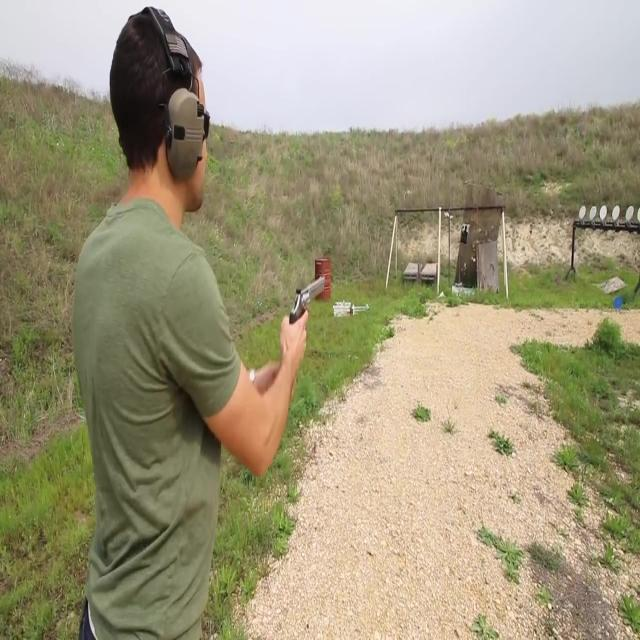Weapon: (275, 228, 343, 371)
